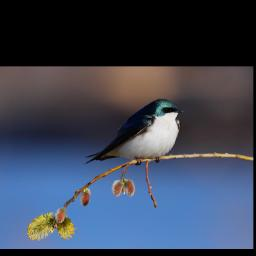Swallow: (83, 98, 185, 164)
